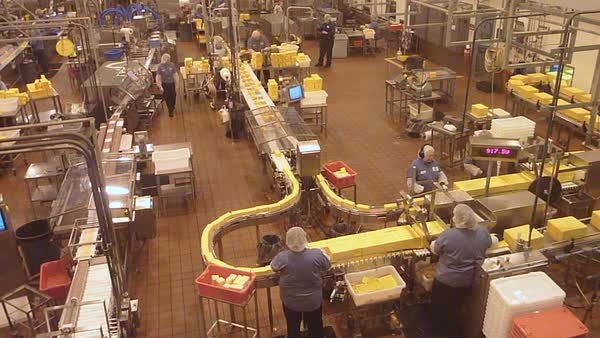person: (428, 203, 492, 319), (270, 226, 334, 338), (404, 143, 448, 195), (155, 52, 180, 119), (247, 29, 273, 86), (314, 13, 336, 68)
